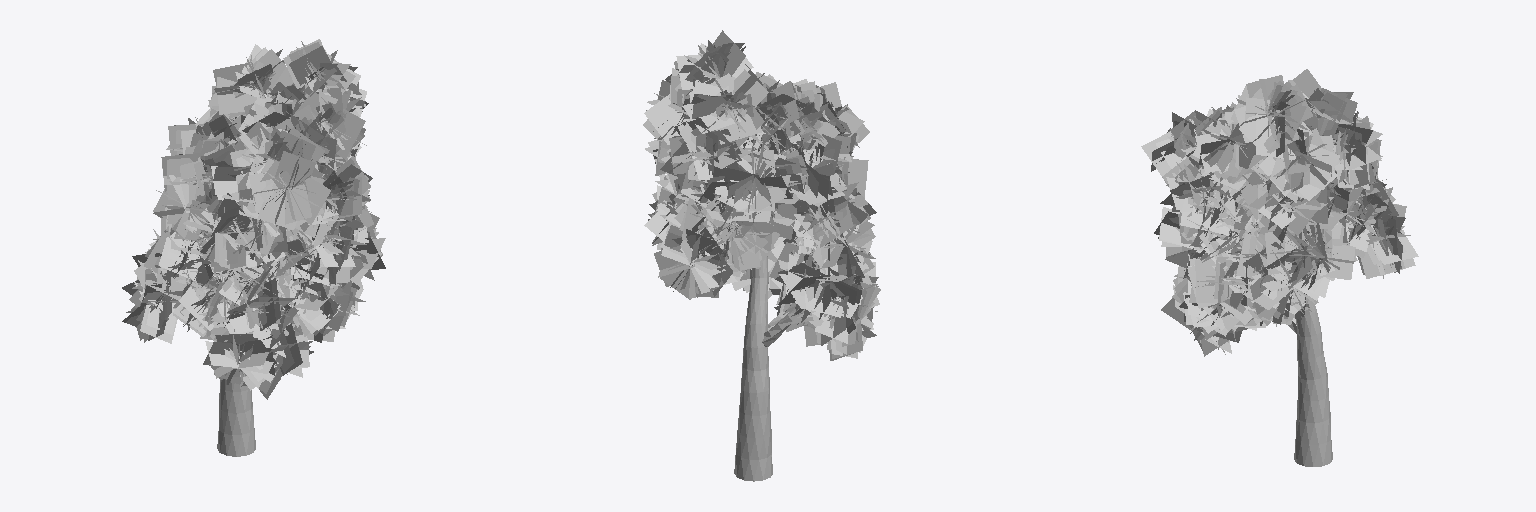
File: tree_2.obj
3 renders of one model, left to right at view 1: azimuth 30°, elevation 25°; view 2: azimuth 150°, elevation 25°; view 3: azimuth 270°, elevation 25°, orthographic.
Visible parts, largest first — view 1: Mesh_1.002, Mesh_0.002; view 2: Mesh_1.002, Mesh_0.002; view 3: Mesh_1.002, Mesh_0.002.
Part boxes in pixels (left/top/right/bottom): Mesh_1.002: left=122, top=39, right=385, bottom=399; Mesh_0.002: left=217, top=88, right=305, bottom=456; Mesh_1.002: left=643, top=30, right=880, bottom=360; Mesh_0.002: left=734, top=256, right=813, bottom=481; Mesh_1.002: left=1141, top=69, right=1418, bottom=356; Mesh_0.002: left=1288, top=305, right=1332, bottom=466.
Bounding box in the file's own units: 40.66 × 69.18 × 42.6.